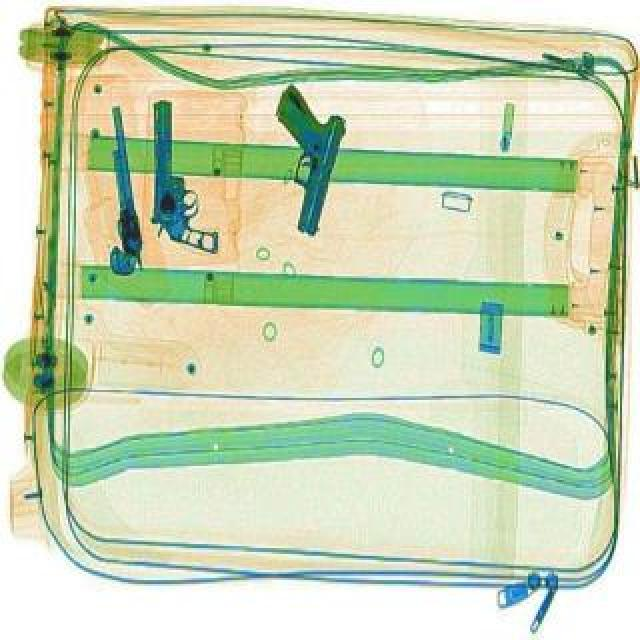gun: (250, 84, 358, 240), (150, 102, 222, 258), (108, 108, 144, 280)
